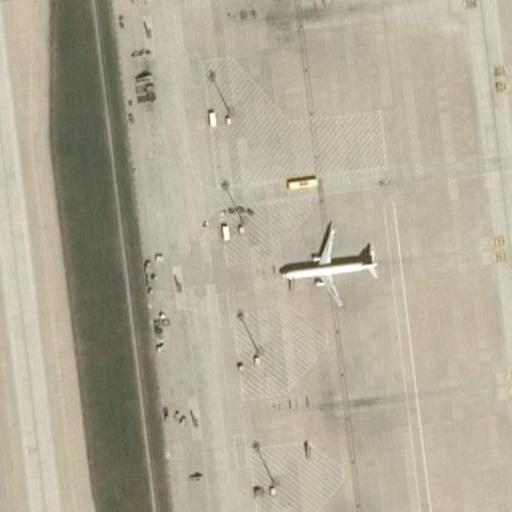Aircraft: (271, 216, 382, 306)
